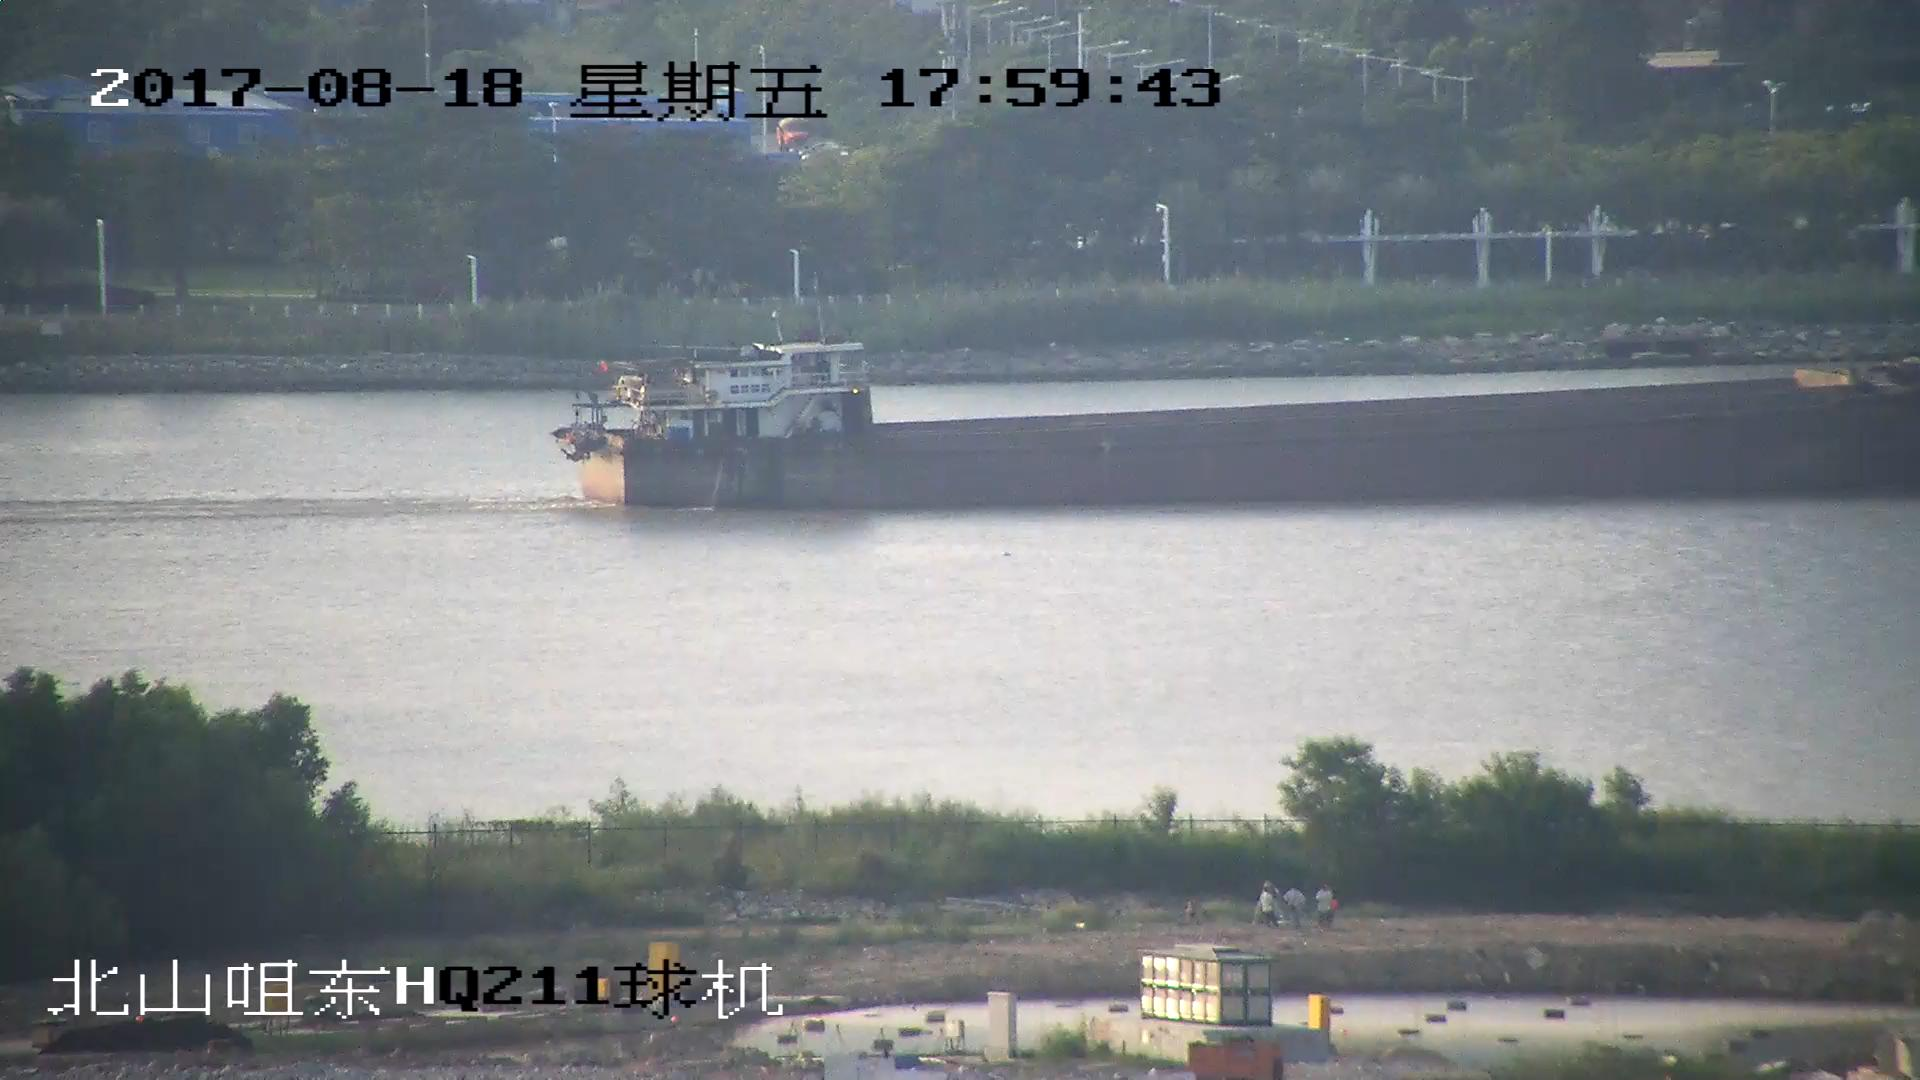bulk cargo carrier: (546, 333, 1920, 512)
